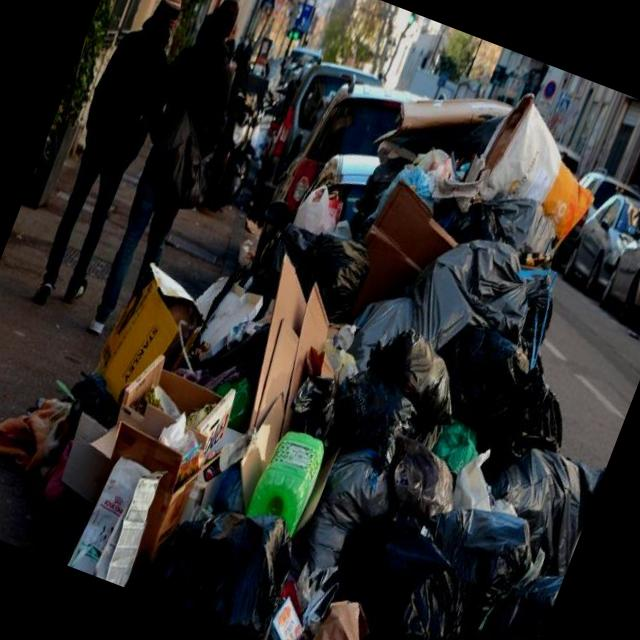high trash: (0, 85, 604, 640)
